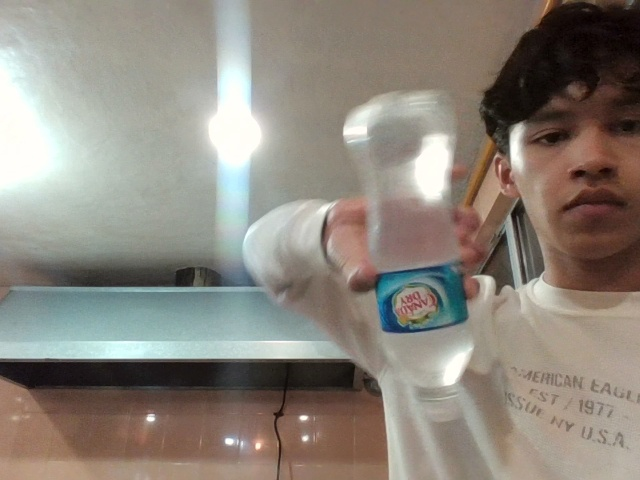botella: (292, 84, 559, 445)
